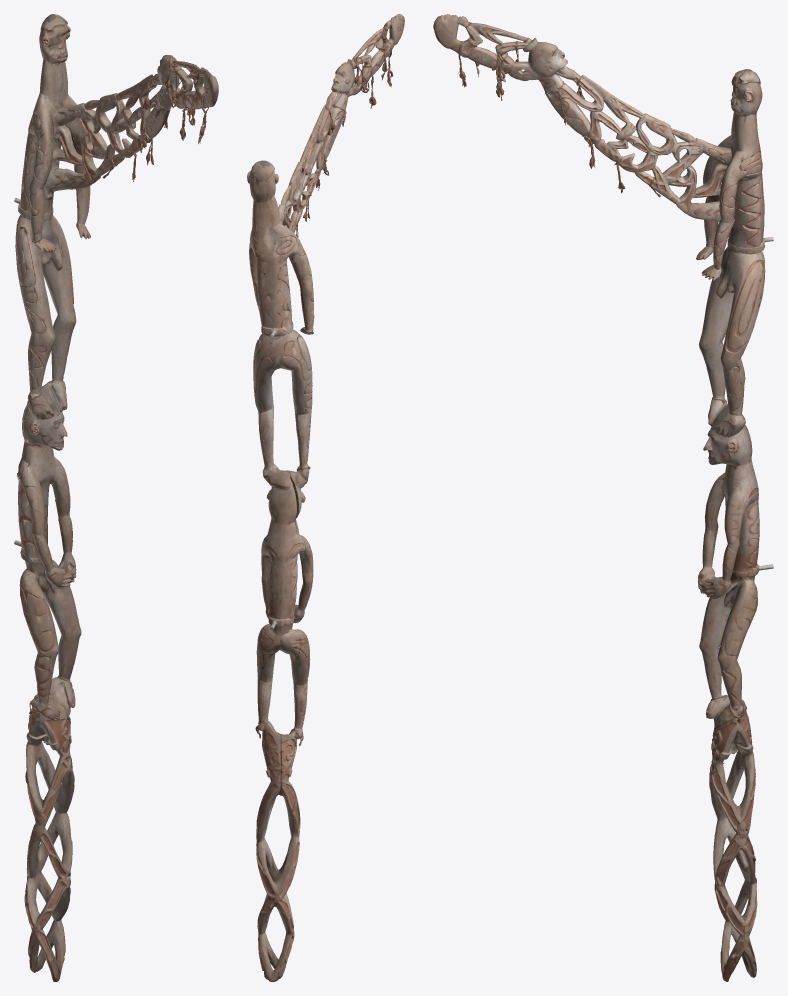
Rendered from preview.glb.
The picture shows the model from 3 angles, left to right: view 1: azimuth 30°, elevation 25°; view 2: azimuth 150°, elevation 25°; view 3: azimuth 270°, elevation 25°; orthographic projection. The views are drawn at different scales.
Visible parts, largest first — view 1: ADVIMG_1978_412_1248_BisPole03_RC_Comps_10Mil_Retexture_Fix0; view 2: ADVIMG_1978_412_1248_BisPole03_RC_Comps_10Mil_Retexture_Fix0; view 3: ADVIMG_1978_412_1248_BisPole03_RC_Comps_10Mil_Retexture_Fix0.
Part boxes in pixels (left/top/right/bottom): ADVIMG_1978_412_1248_BisPole03_RC_Comps_10Mil_Retexture_Fix0: left=14, top=14, right=218, bottom=981; ADVIMG_1978_412_1248_BisPole03_RC_Comps_10Mil_Retexture_Fix0: left=247, top=14, right=404, bottom=981; ADVIMG_1978_412_1248_BisPole03_RC_Comps_10Mil_Retexture_Fix0: left=433, top=14, right=773, bottom=981.
Size of the model in its own units: 0.3754 by 5.24 by 1.67.
1 material, 1 textured.
